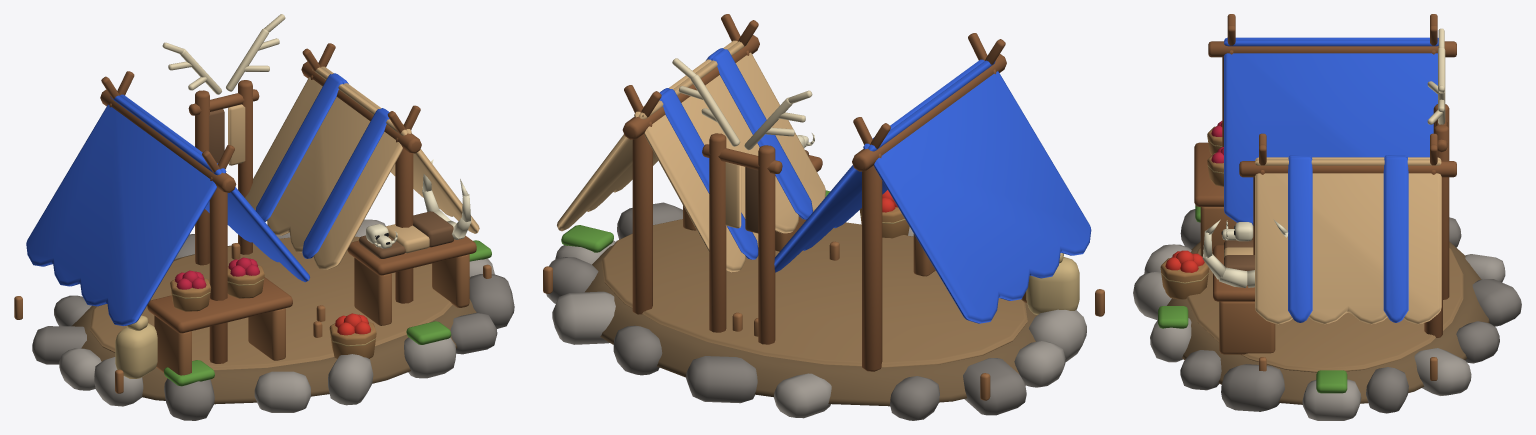
The model's file is Market.glb.
The picture shows the model from 3 angles, left to right: view 1: azimuth 30°, elevation 25°; view 2: azimuth 150°, elevation 25°; view 3: azimuth 270°, elevation 25°; orthographic projection. The views are drawn at different scales.
Parts seen in each view (by area): view 1: Market; view 2: Market; view 3: Market.
Boxes of the visible parts, x1,y1,x2,y2 form: Market: (14,14,514,420); Market: (543,14,1104,420); Market: (1133,14,1521,420).
Size of the model in its own units: 3.21 by 1.9 by 2.5.
